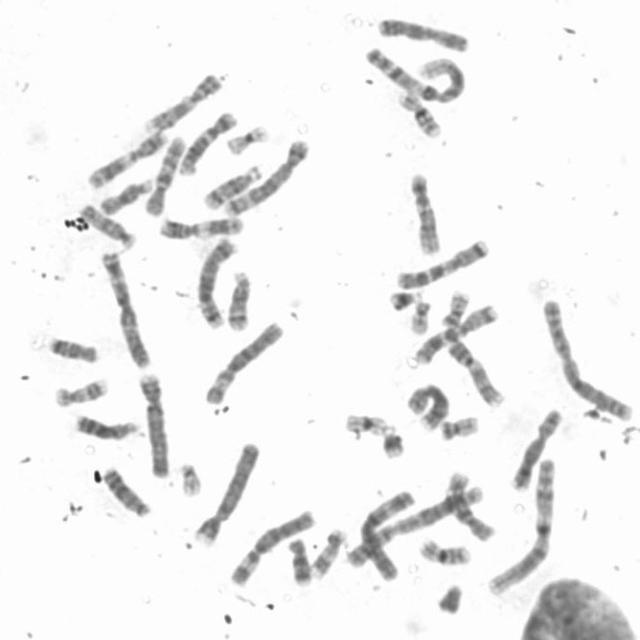A1: (483, 453, 559, 598), (358, 40, 468, 105)
A2: (342, 480, 490, 570), (538, 293, 635, 422)
A3: (96, 246, 153, 369), (353, 485, 416, 580)
B4: (190, 436, 262, 546), (134, 366, 174, 480)
B5: (220, 133, 312, 218), (190, 231, 240, 330)
C10: (140, 128, 190, 218), (443, 464, 499, 542)
C11: (82, 124, 172, 191), (155, 211, 247, 241)
C12: (174, 105, 240, 176), (405, 168, 445, 256)
C6: (225, 503, 318, 588), (200, 316, 286, 406)
C7: (411, 298, 502, 365), (391, 233, 491, 290)
C8: (506, 403, 565, 492), (402, 378, 452, 433)
C9: (139, 67, 224, 134), (442, 333, 507, 408)
D13: (98, 461, 153, 519), (71, 409, 143, 442)
D14: (198, 159, 264, 210), (222, 265, 254, 333)
D15: (75, 200, 137, 249), (95, 172, 155, 216)
E16: (393, 86, 444, 140), (415, 533, 474, 567)
E17: (49, 372, 111, 409), (308, 523, 348, 580)
E18: (44, 331, 102, 364), (284, 532, 314, 587)
F19: (221, 119, 271, 156), (340, 406, 390, 436)
F20: (437, 285, 472, 328), (435, 410, 482, 442)
G21: (377, 421, 408, 460), (384, 284, 424, 312)
G22: (174, 456, 205, 498), (405, 294, 433, 336)
X: (374, 12, 471, 54)
Y: (432, 578, 466, 616)
